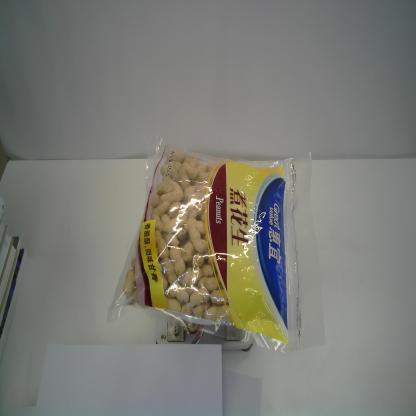Dried Food: (104, 132, 325, 356)
